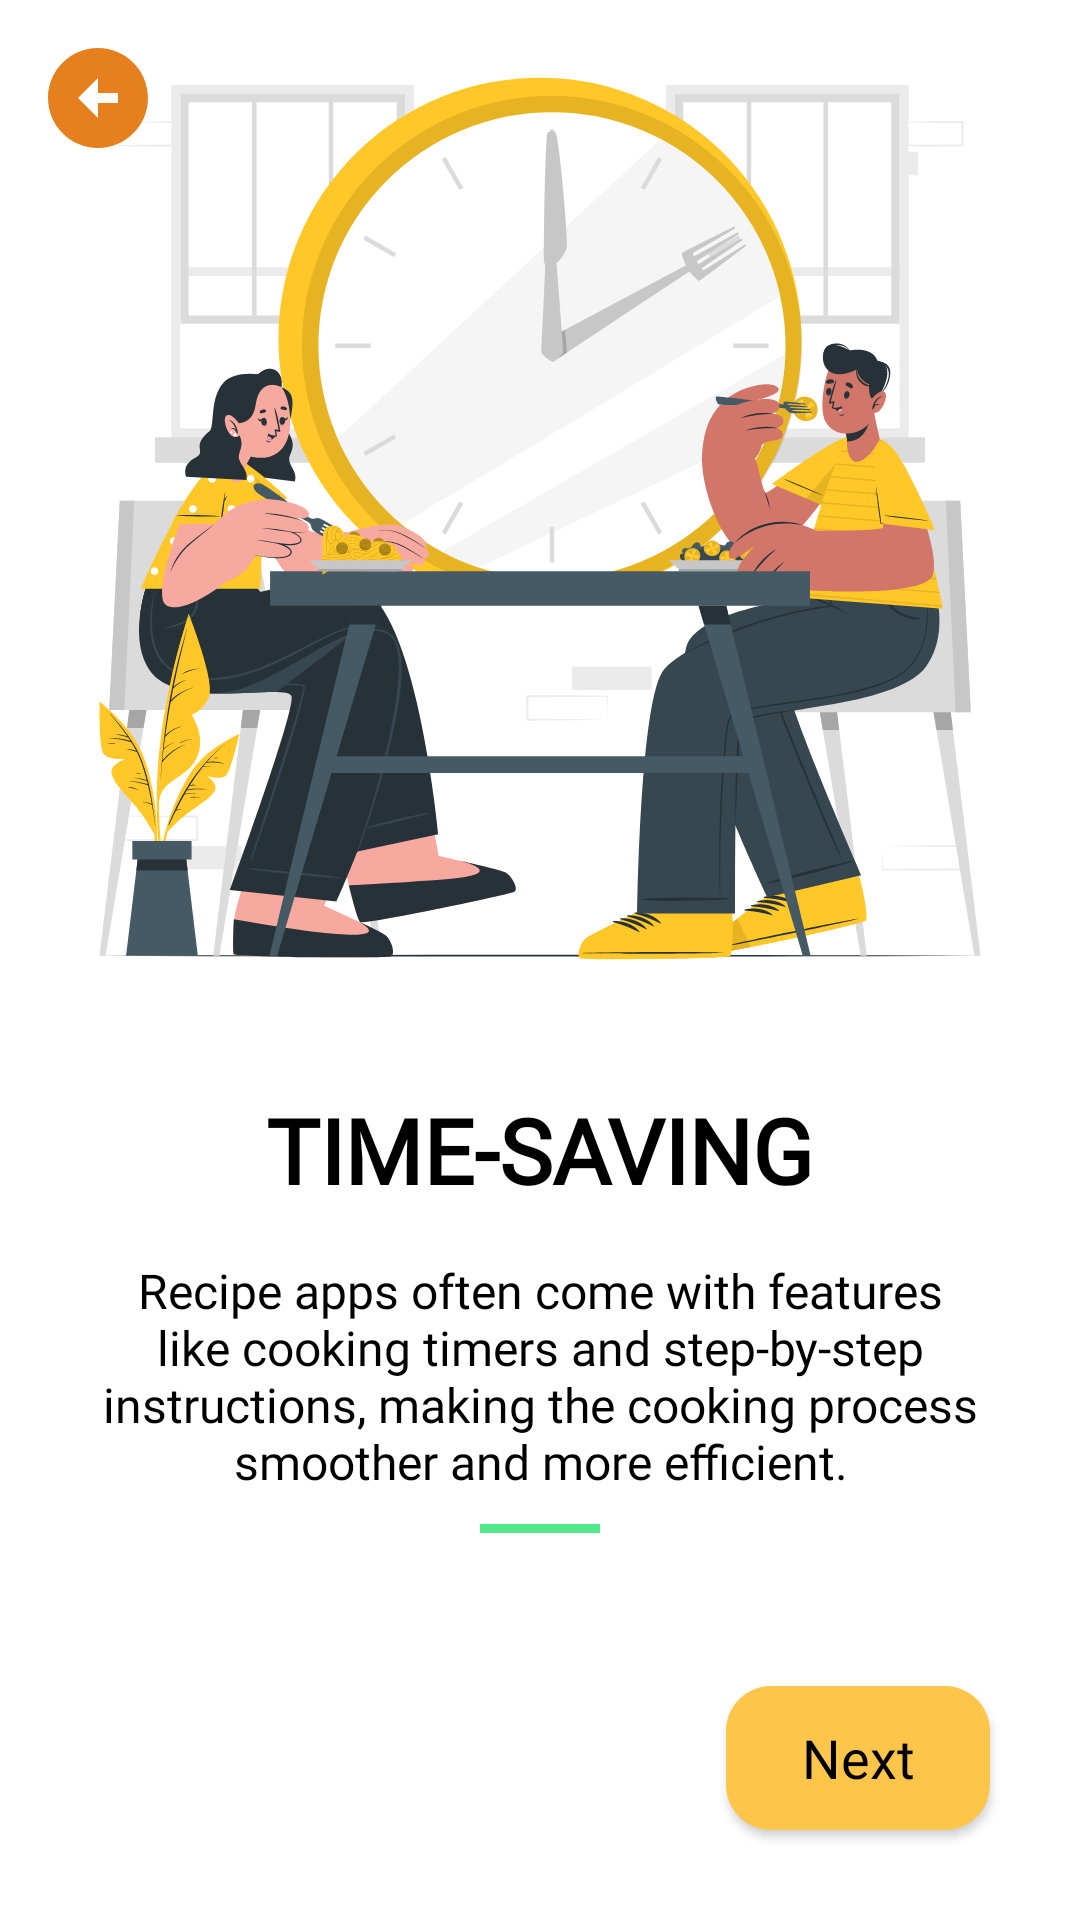

Named icons in this screenshot (1080px×1920px) and their bounding boxes, (x1, y1, x2, y2):
arrow back: (48, 48, 148, 148)
